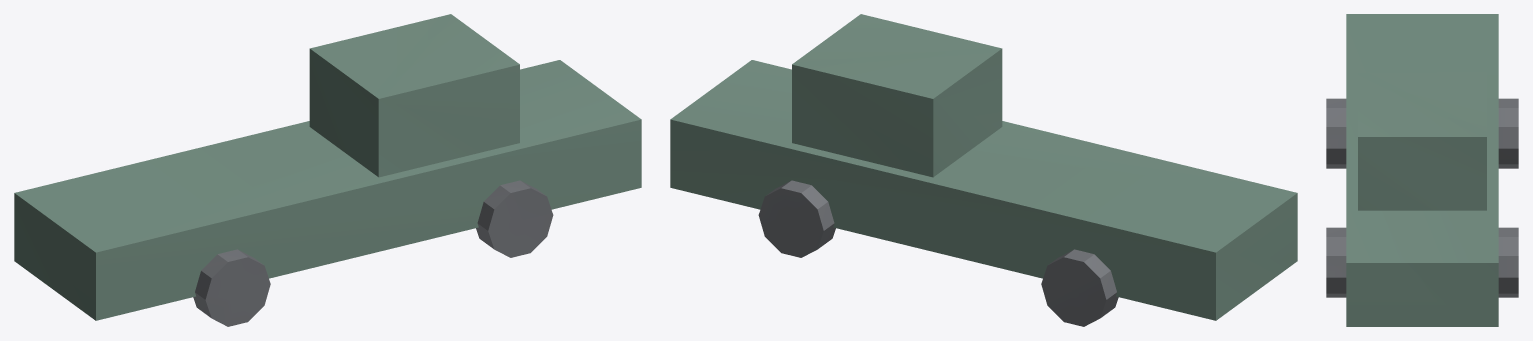
The model's file is train-08.glb.
The picture shows the model from 3 angles, left to right: view 1: azimuth 30°, elevation 25°; view 2: azimuth 150°, elevation 25°; view 3: azimuth 270°, elevation 25°; orthographic projection. The views are drawn at different scales.
Visible parts, largest first — view 1: world; view 2: world; view 3: world.
Boxes of the visible parts, x1,y1,x2,y2 form: world: [14, 14, 641, 326]; world: [670, 14, 1297, 326]; world: [1326, 14, 1518, 326].
Bounding box in the file's own units: 2.51 × 0.7677 × 0.82.
